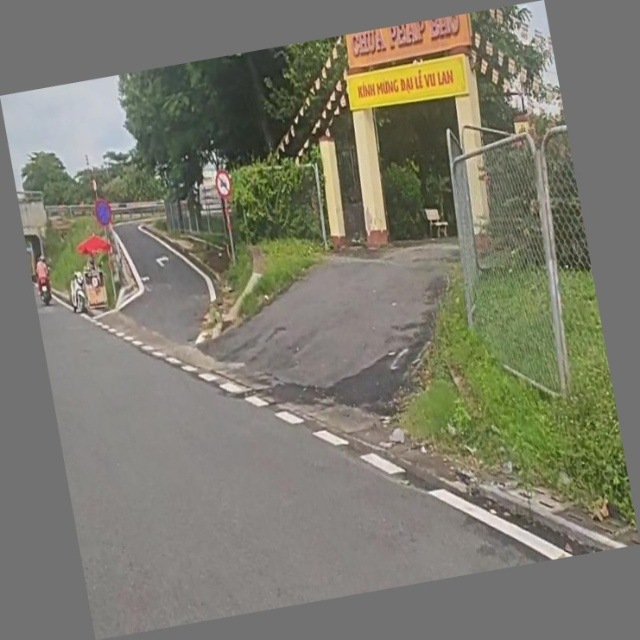P.103a: (213, 169, 235, 200)
P.130: (94, 198, 114, 228)
